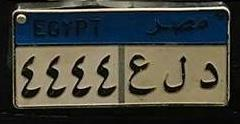4: (68, 54, 92, 98), (95, 53, 117, 98), (46, 52, 65, 99), (21, 55, 37, 97)
ain: (127, 51, 152, 97)
daal: (193, 59, 223, 91)
laam: (160, 53, 187, 93)
